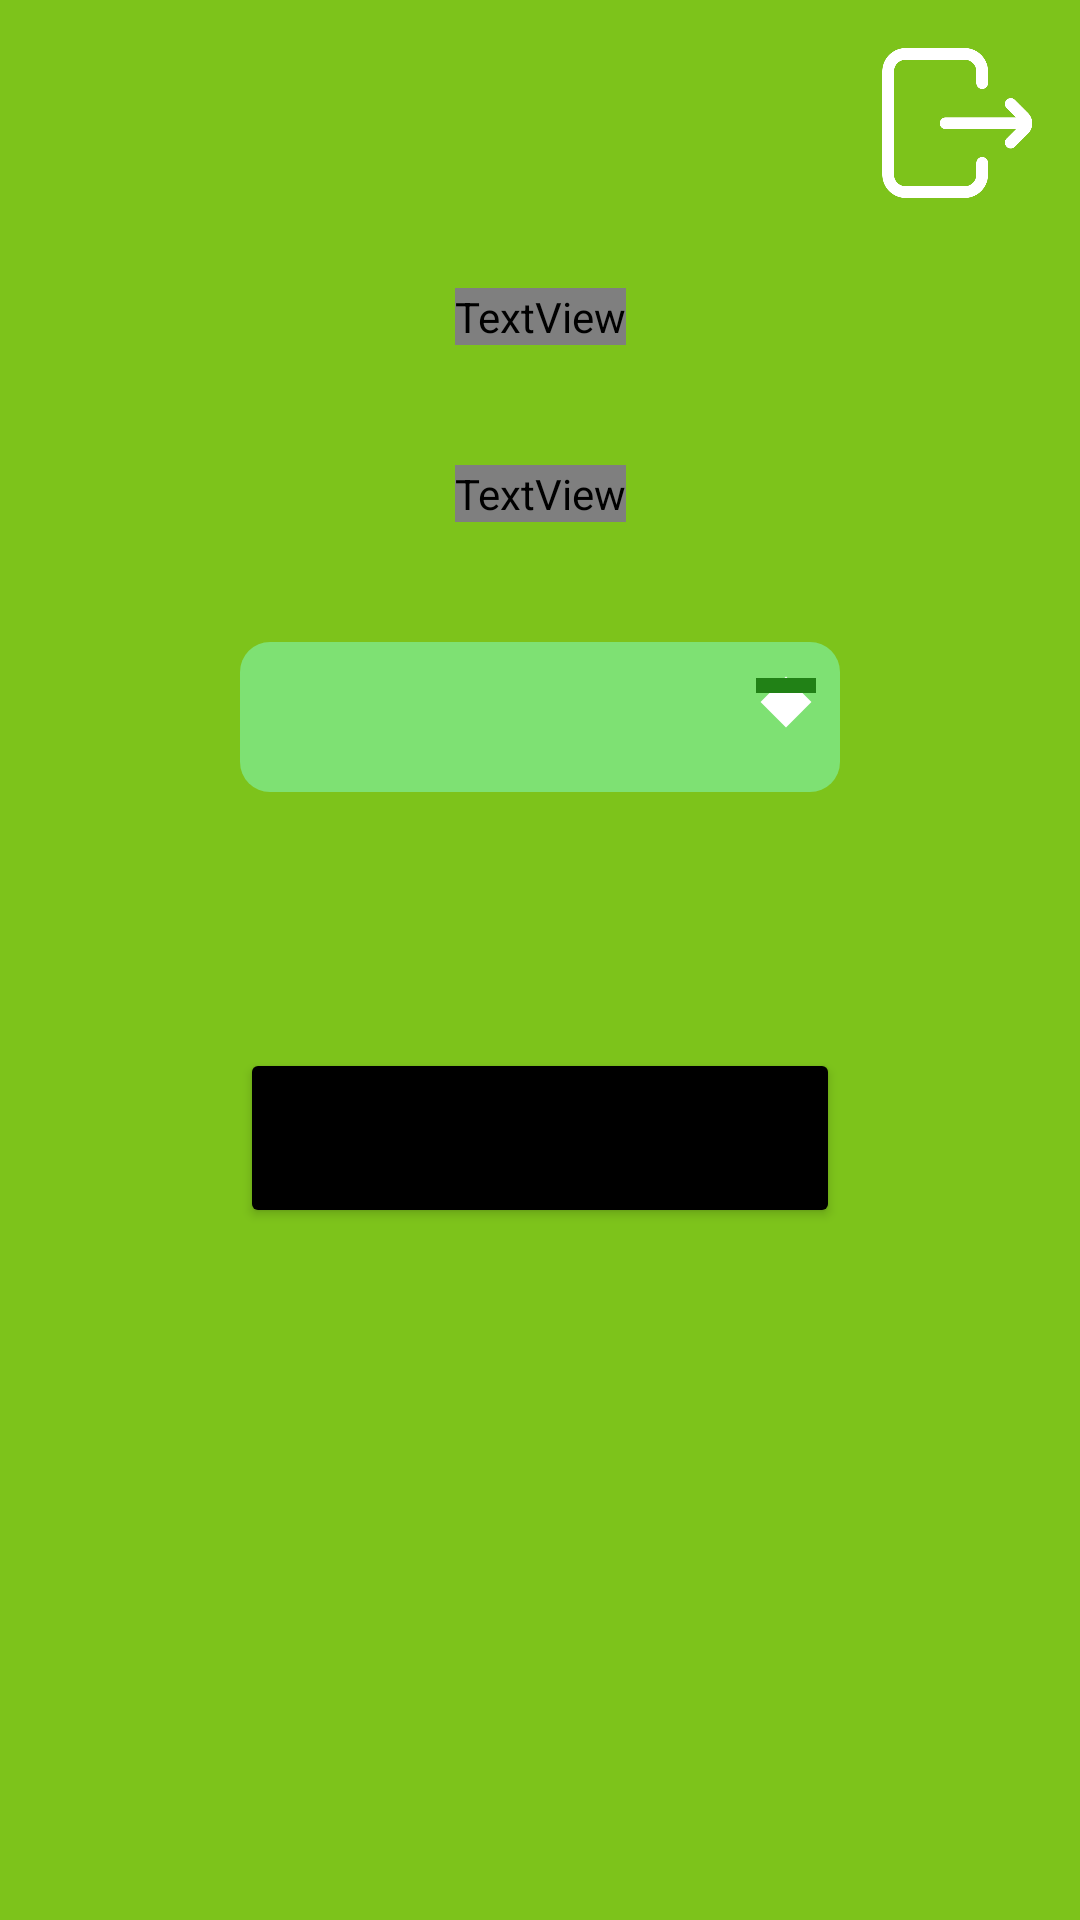

Point at icon controls on the screen. Image size 1080×1920, points as [x,y].
exit: [957,123]
